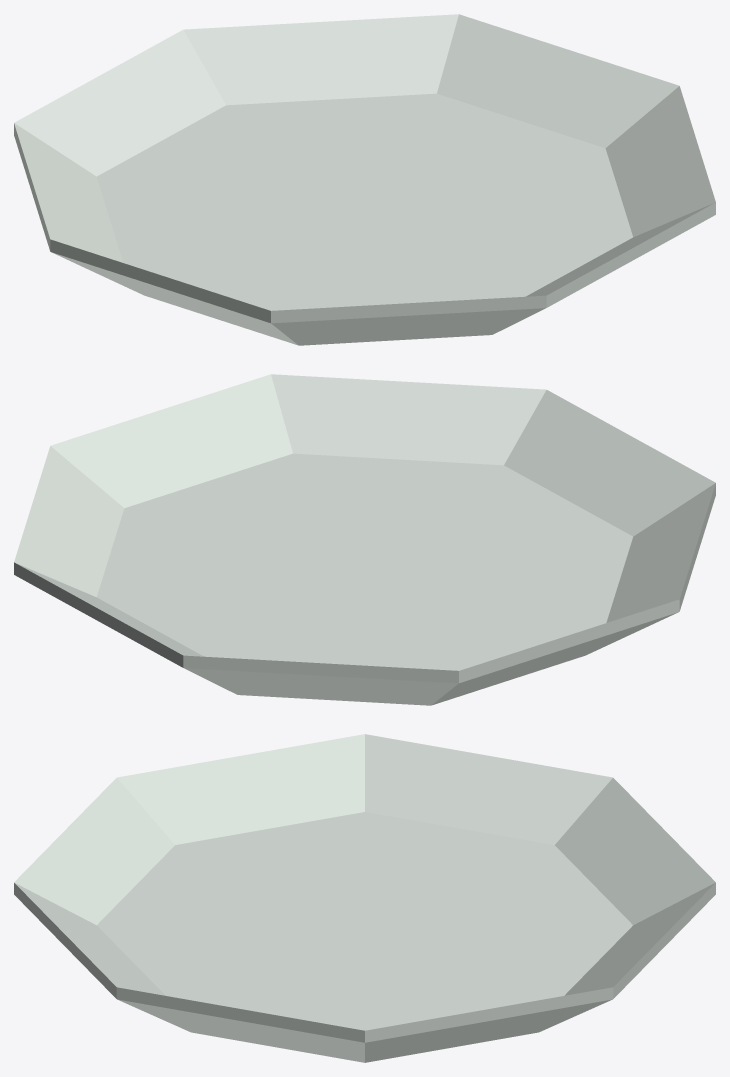
File: plate2.glb
3 views of the same model, one above another, from view 1: azimuth 30°, elevation 25°; view 2: azimuth 150°, elevation 25°; view 3: azimuth 270°, elevation 25° (orthographic). The views are drawn at different scales.
Parts seen in each view (by area): view 1: plate2; view 2: plate2; view 3: plate2.
Part boxes in pixels (bbox=[...]): plate2: bbox=[14, 14, 715, 345]; plate2: bbox=[14, 374, 715, 705]; plate2: bbox=[14, 734, 715, 1062].
Size of the model in its own units: 0.3419 by 0.0411 by 0.3419.
1 material, 1 textured.
